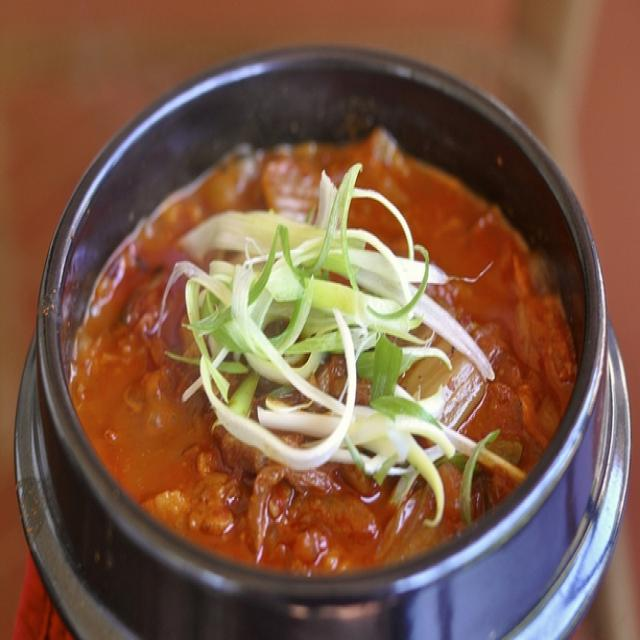汤锅炖物: (27, 50, 612, 615)
